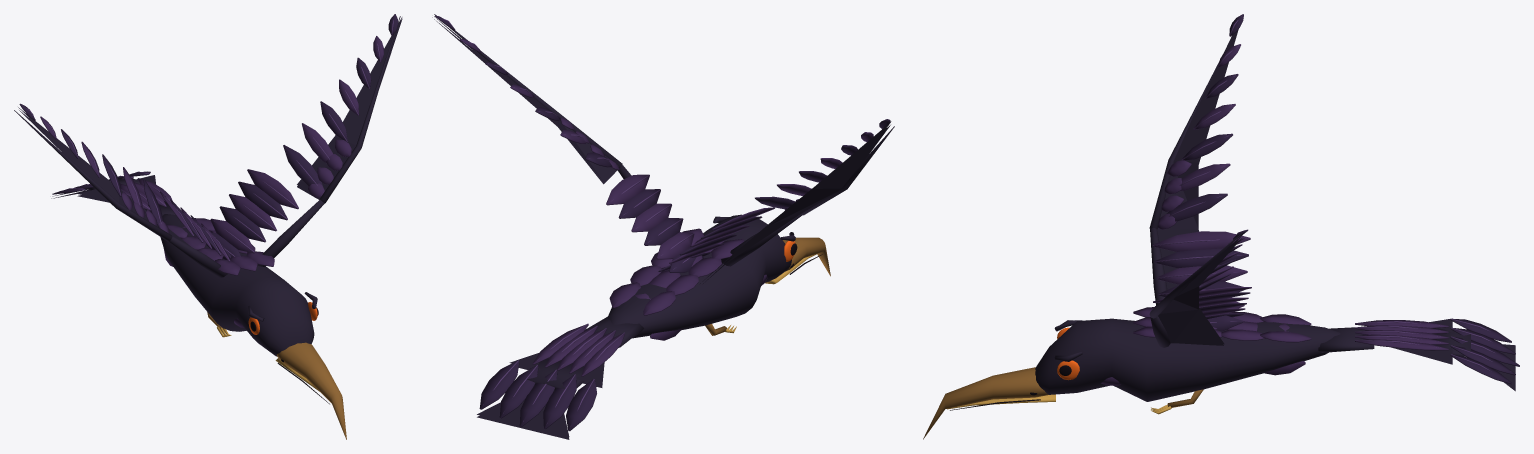
Rendered from guays.glb.
3 renders of one model, left to right at view 1: azimuth 30°, elevation 25°; view 2: azimuth 150°, elevation 25°; view 3: azimuth 270°, elevation 25°, orthographic. The views are drawn at different scales.
Visible parts, largest first — view 1: Guay.0.02.tapered feathered torso, Guay.0.02.hooked upper bill, Guay.0.06.native feather web connection, Guay.0.04.native feather web connection, Guay.0.04.outer leading wing bone, Guay.0.06.outer leading wing bone, Guay.0.05.secondary flight feather.005, Guay.0.05.leading scapular edge, Guay.0.05.secondary flight feather.004, Guay.0.05.secondary flight feather.003, Guay.0.05.secondary flight feather.002, Guay.0.05.secondary flight feather.001 (+5 smaller); view 2: Guay.0.02.tapered feathered torso, Guay.0.04.native feather web connection, Guay.0.08.native feather web connection, Guay.0.06.native feather web connection, Guay.0.08.long tail feather.001, Guay.0.08.long tail feather.003, Guay.0.08.long tail feather.002, Guay.0.08.long tail feather.004, Guay.0.08.long tail feather, Guay.0.08.continuous tail attachment, Guay.0.02.hooked upper bill, Guay.0.05.secondary flight feather.005 (+19 smaller); view 3: Guay.0.02.tapered feathered torso, Guay.0.02.hooked upper bill, Guay.0.04.native feather web connection, Guay.0.05.native feather web connection, Guay.0.03.secondary flight feather.005, Guay.0.06.native feather web connection, Guay.0.03.secondary flight feather.004, Guay.0.07.continuous tail attachment, Guay.0.04.outer leading wing bone, Guay.0.04.separated primary feather, Guay.0.03.secondary flight feather.003, Guay.0.03.leading scapular edge (+5 smaller).
Part boxes in pixels (x1,y1,x2,y2): Guay.0.02.tapered feathered torso: [160, 214, 314, 356]; Guay.0.02.hooked upper bill: [276, 342, 346, 439]; Guay.0.06.native feather web connection: [297, 17, 402, 199]; Guay.0.04.native feather web connection: [18, 107, 158, 226]; Guay.0.04.outer leading wing bone: [14, 110, 172, 241]; Guay.0.06.outer leading wing bone: [319, 16, 400, 203]; Guay.0.05.secondary flight feather.005: [247, 169, 298, 209]; Guay.0.05.leading scapular edge: [257, 199, 324, 266]; Guay.0.05.secondary flight feather.004: [238, 181, 287, 220]; Guay.0.05.secondary flight feather.003: [229, 194, 276, 231]; Guay.0.05.secondary flight feather.002: [219, 206, 265, 242]; Guay.0.05.secondary flight feather.001: [210, 218, 254, 253]; Guay.0.02.tapered feathered torso: [608, 214, 791, 338]; Guay.0.04.native feather web connection: [771, 121, 891, 224]; Guay.0.08.native feather web connection: [477, 400, 569, 439]; Guay.0.06.native feather web connection: [432, 16, 618, 184]; Guay.0.08.long tail feather.001: [543, 375, 576, 428]; Guay.0.08.long tail feather.003: [499, 365, 538, 418]; Guay.0.08.long tail feather.002: [519, 370, 557, 426]; Guay.0.08.long tail feather.004: [479, 361, 519, 409]; Guay.0.08.long tail feather: [566, 379, 596, 431]; Guay.0.08.continuous tail attachment: [527, 358, 584, 390]; Guay.0.02.hooked upper bill: [782, 237, 830, 276]; Guay.0.05.secondary flight feather.005: [606, 174, 649, 205]; Guay.0.02.tapered feathered torso: [1035, 318, 1340, 401]; Guay.0.02.hooked upper bill: [923, 367, 1048, 439]; Guay.0.04.native feather web connection: [1157, 29, 1238, 229]; Guay.0.05.native feather web connection: [1158, 308, 1224, 345]; Guay.0.03.secondary flight feather.005: [1153, 231, 1250, 251]; Guay.0.06.native feather web connection: [1160, 235, 1242, 313]; Guay.0.03.secondary flight feather.004: [1155, 248, 1248, 268]; Guay.0.07.continuous tail attachment: [1318, 327, 1374, 352]; Guay.0.04.outer leading wing bone: [1149, 55, 1222, 229]; Guay.0.04.separated primary feather: [1166, 193, 1227, 221]; Guay.0.03.secondary flight feather.003: [1157, 265, 1247, 284]; Guay.0.03.leading scapular edge: [1150, 227, 1167, 305].
Size of the model in its own units: 36.77 by 25.28 by 42.6.
